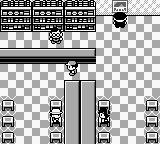leer: (113, 0, 127, 14)
main: (65, 61, 78, 75)
no-caminable: (1, 0, 96, 31), (1, 49, 96, 63), (64, 81, 80, 143), (80, 81, 96, 143), (128, 0, 159, 15), (96, 0, 113, 15)
npc: (48, 28, 63, 43), (113, 13, 127, 27), (98, 108, 110, 124), (50, 109, 62, 124)
